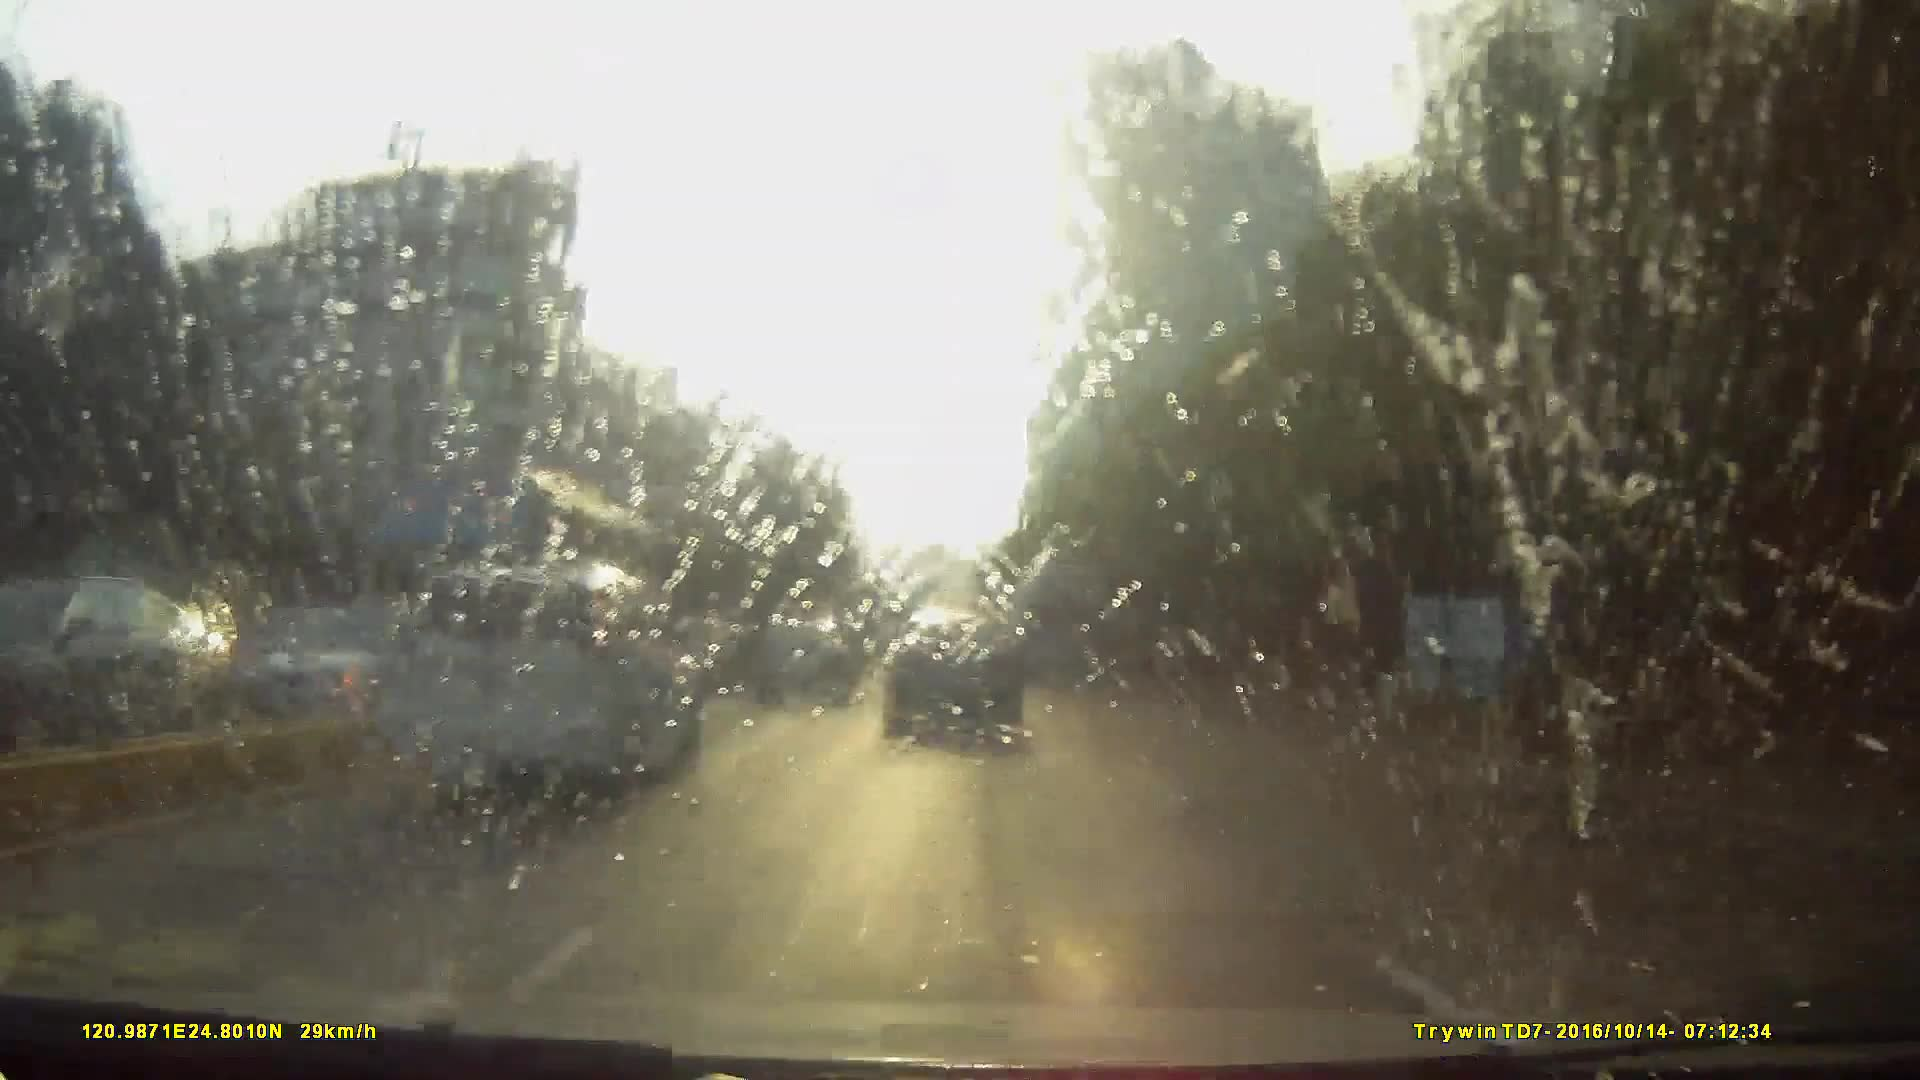vehicle: (251, 556, 684, 868), (305, 450, 680, 723), (396, 556, 704, 793), (884, 607, 1021, 749), (1001, 562, 1106, 688), (742, 620, 851, 705), (866, 638, 915, 687)
